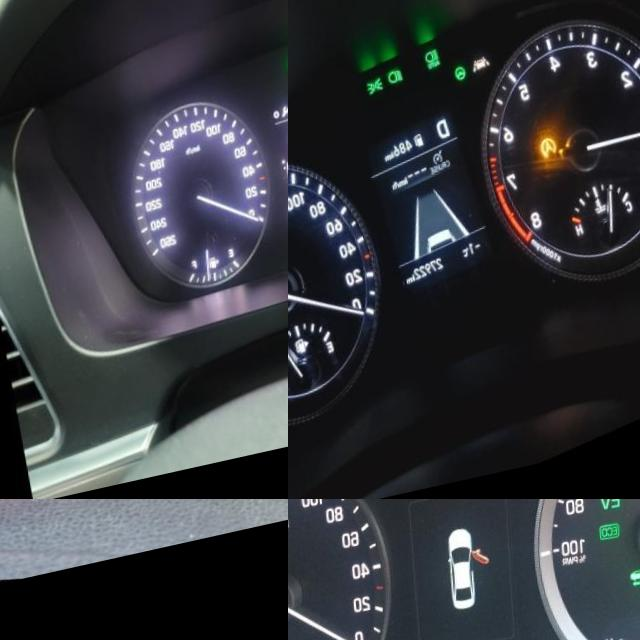LaneCenteringOff: (468, 67, 488, 87)
Low beam: (384, 77, 401, 96)
SideLamp: (362, 84, 382, 106), (284, 67, 288, 84)
